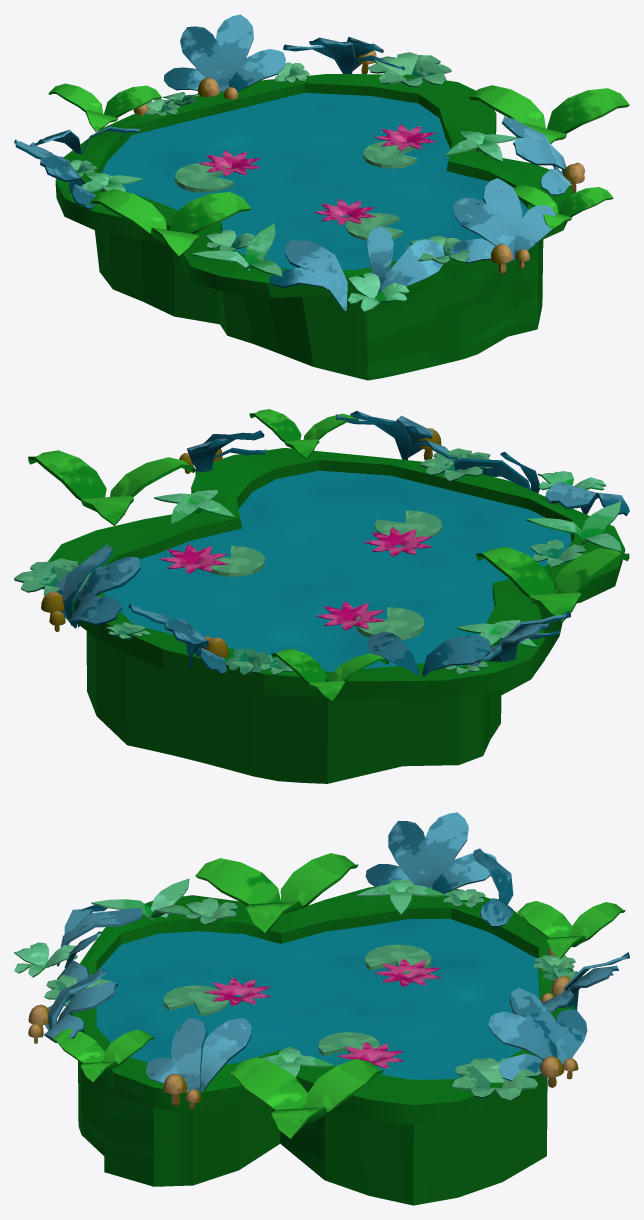
The model's file is golet.fbx.
The picture shows the model from 3 angles, top to bottom: view 1: azimuth 30°, elevation 25°; view 2: azimuth 150°, elevation 25°; view 3: azimuth 270°, elevation 25°; orthographic projection. The views are drawn at different scales.
Visible parts, largest first — view 1: golet.002; view 2: golet.002; view 3: golet.002.
Boxes of the visible parts, x1,y1,x2,y2 form: golet.002: (14, 14, 629, 380); golet.002: (14, 409, 629, 783); golet.002: (14, 812, 629, 1205).
Bounding box in the file's own units: 27.01 × 7.55 × 24.67.
Materials: 1 (1 with a texture image).
